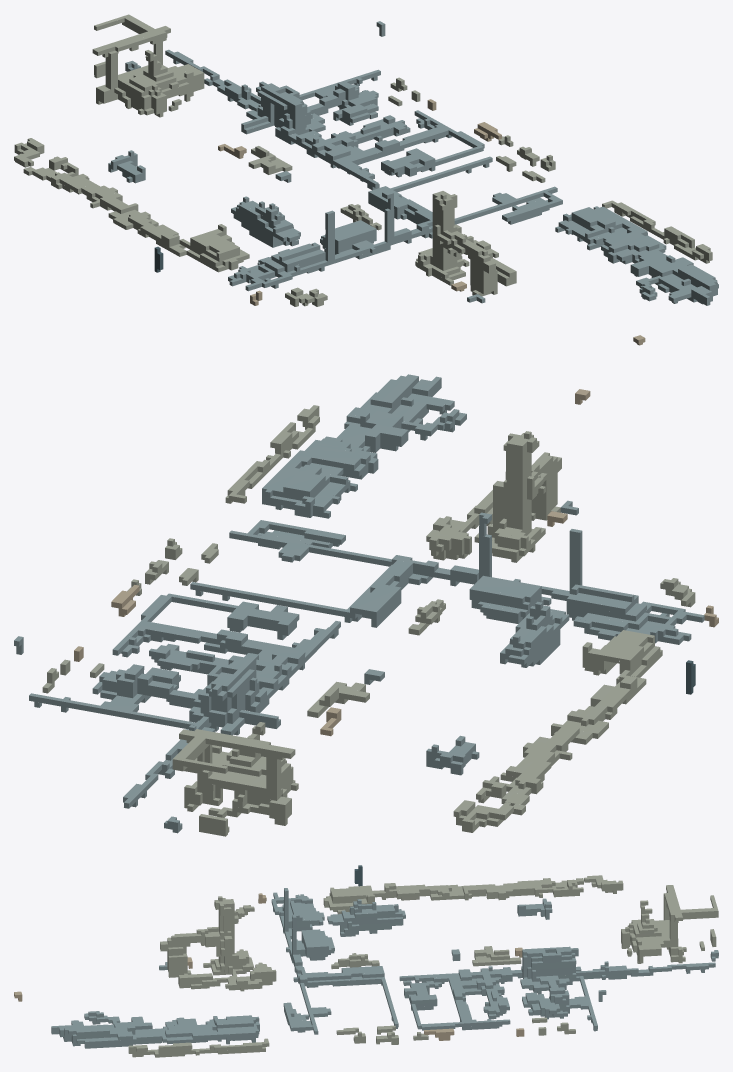
3 views of the same model, one above another, from view 1: azimuth 30°, elevation 25°; view 2: azimuth 150°, elevation 25°; view 3: azimuth 270°, elevation 25° (orthographic). The views are drawn at different scales.
Parts seen in each view (by area): view 1: measured-industrial; view 2: measured-industrial; view 3: measured-industrial.
Boxes of the visible parts, x1,y1,x2,y2 form: measured-industrial: [14, 14, 718, 345]; measured-industrial: [14, 374, 718, 836]; measured-industrial: [14, 865, 718, 1057].
Bounding box in the file's own units: 169 × 33.05 × 284.
